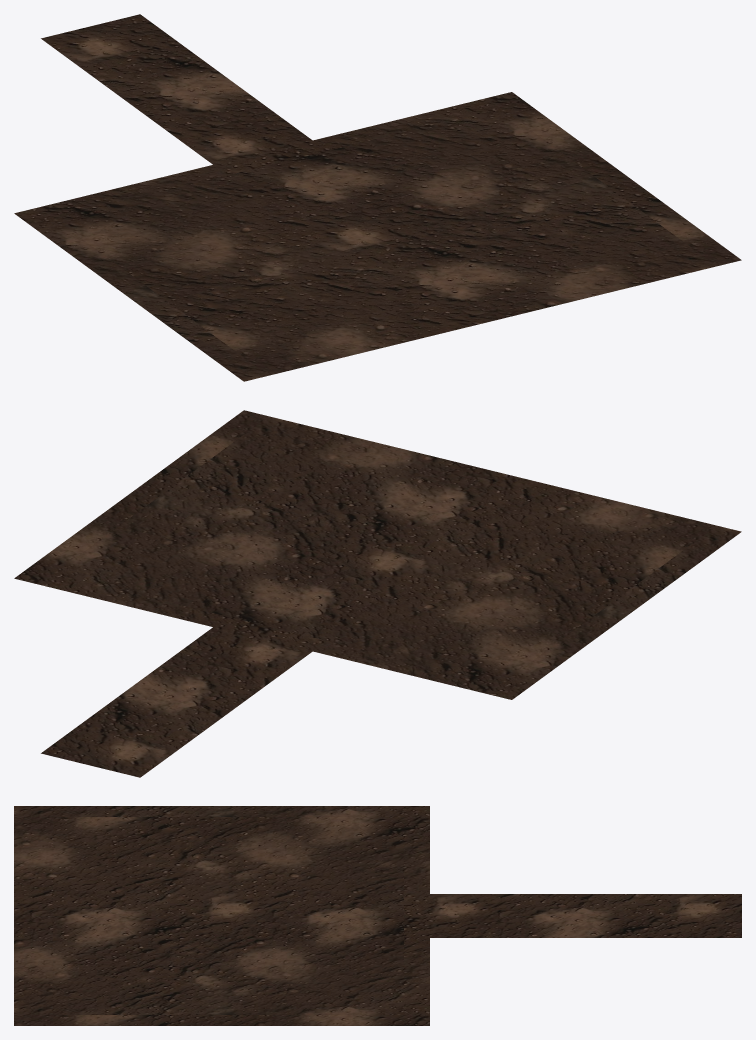
Rendered from floor_sec2.glb.
3 renders of one model, top to bottom at view 1: azimuth 30°, elevation 25°; view 2: azimuth 150°, elevation 25°; view 3: azimuth 270°, elevation 25°, orthographic. The views are drawn at different scales.
Visible parts, largest first — view 1: floor_sec2; view 2: floor_sec2; view 3: floor_sec2.
Boxes of the visible parts, x1,y1,x2,y2 form: floor_sec2: (14, 14, 741, 381); floor_sec2: (14, 410, 741, 777); floor_sec2: (14, 806, 741, 1025).
Size of the model in its own units: 20 by 0 by 28.
1 material, 1 textured.
